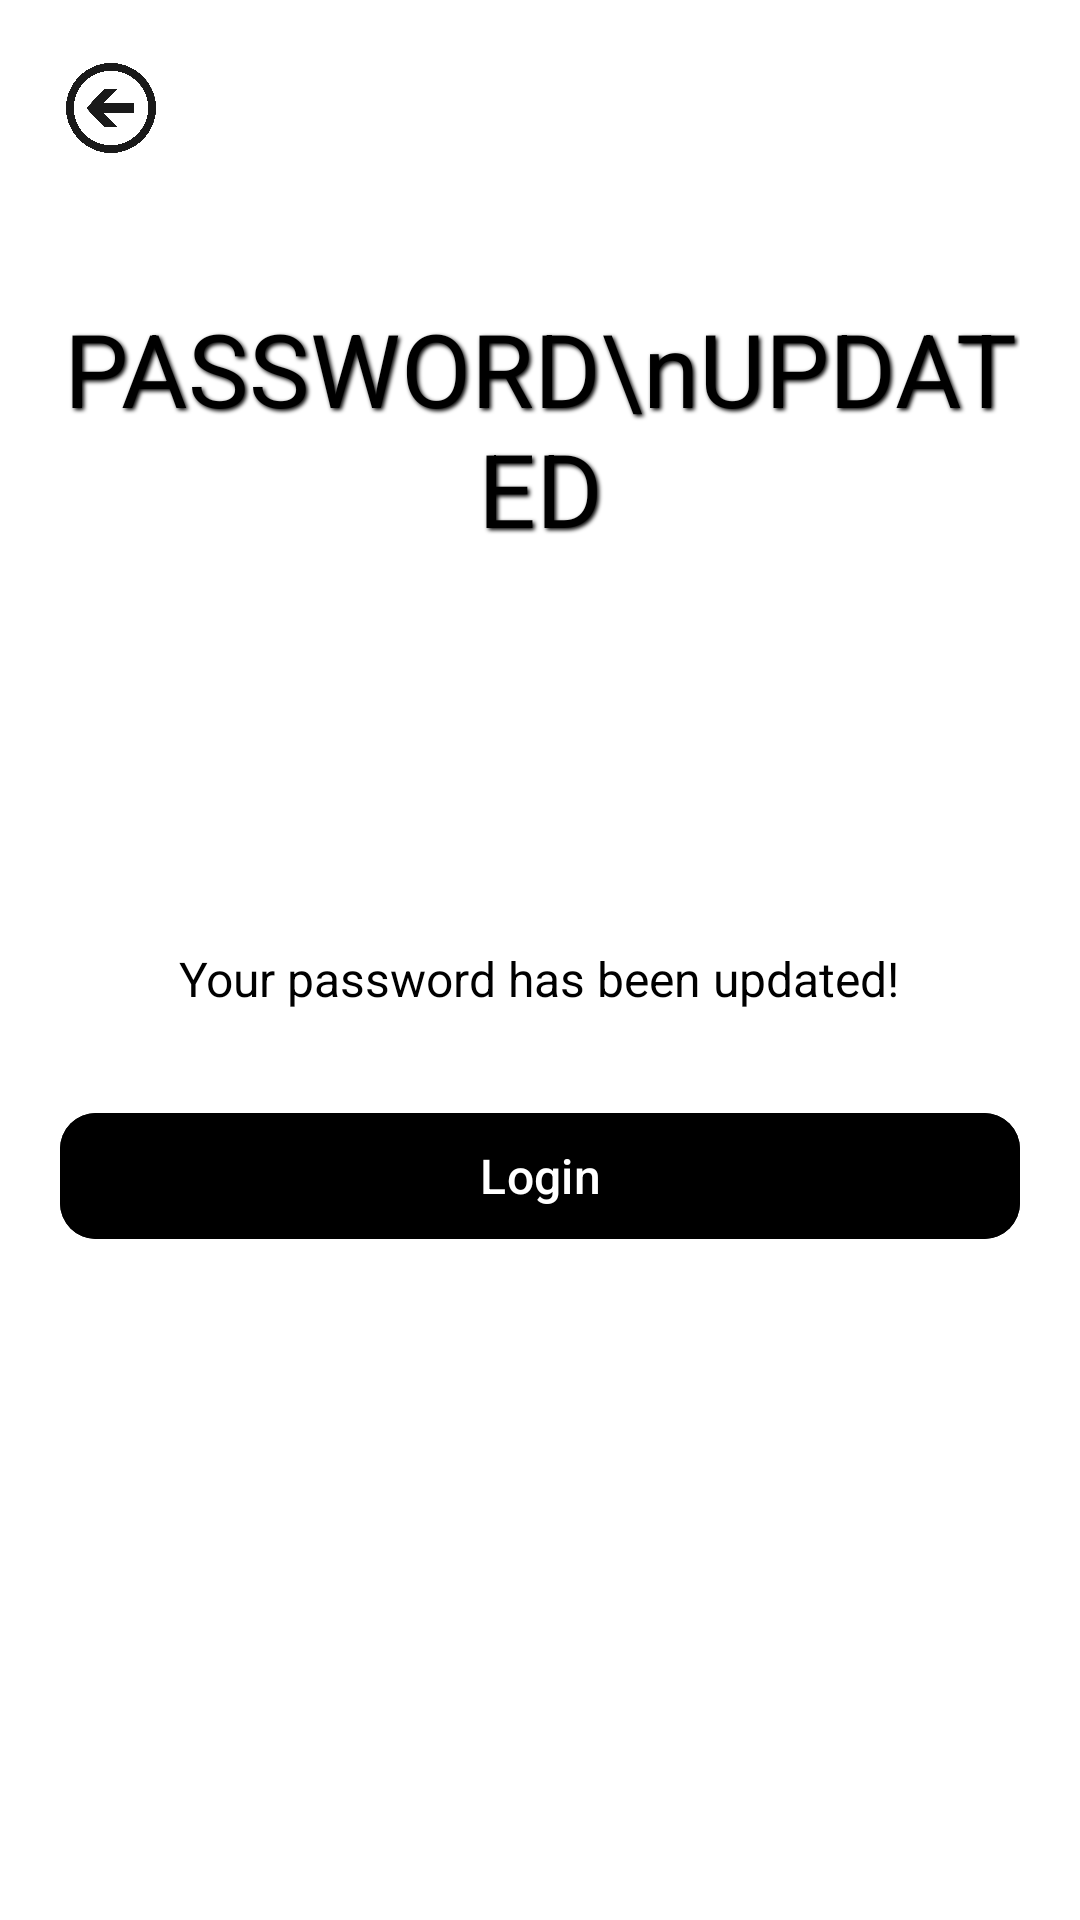

Named icons in this screenshot (1080px x 1920px) and their centers, (x=x, y=y):
back: (x=111, y=108)
